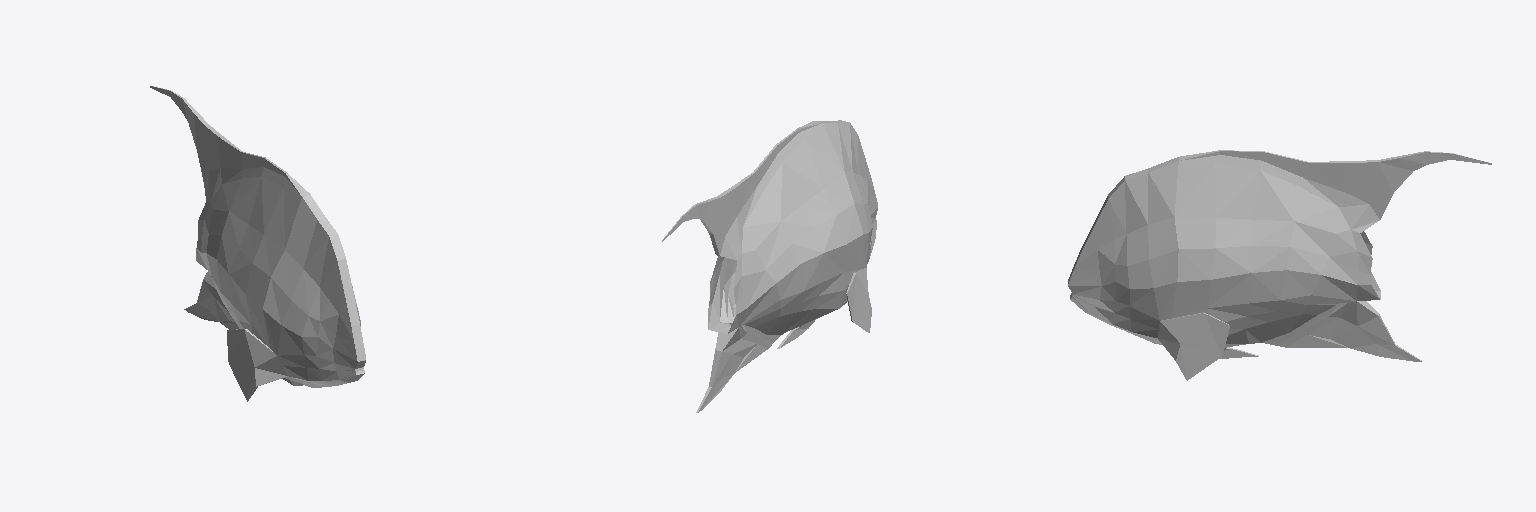
Rendered from cuerpo.obj.
3 renders of one model, left to right at view 1: azimuth 30°, elevation 25°; view 2: azimuth 150°, elevation 25°; view 3: azimuth 270°, elevation 25°, orthographic.
Visible parts, largest first — view 1: polySurface16 TropicalFish06; view 2: polySurface16 TropicalFish06; view 3: polySurface16 TropicalFish06.
Boxes of the visible parts, <box> form: polySurface16 TropicalFish06: <box>150,86,365,401</box>; polySurface16 TropicalFish06: <box>662,120,877,412</box>; polySurface16 TropicalFish06: <box>1068,150,1491,380</box>.
Size of the model in its own units: 1.12 by 2.01 by 3.67.